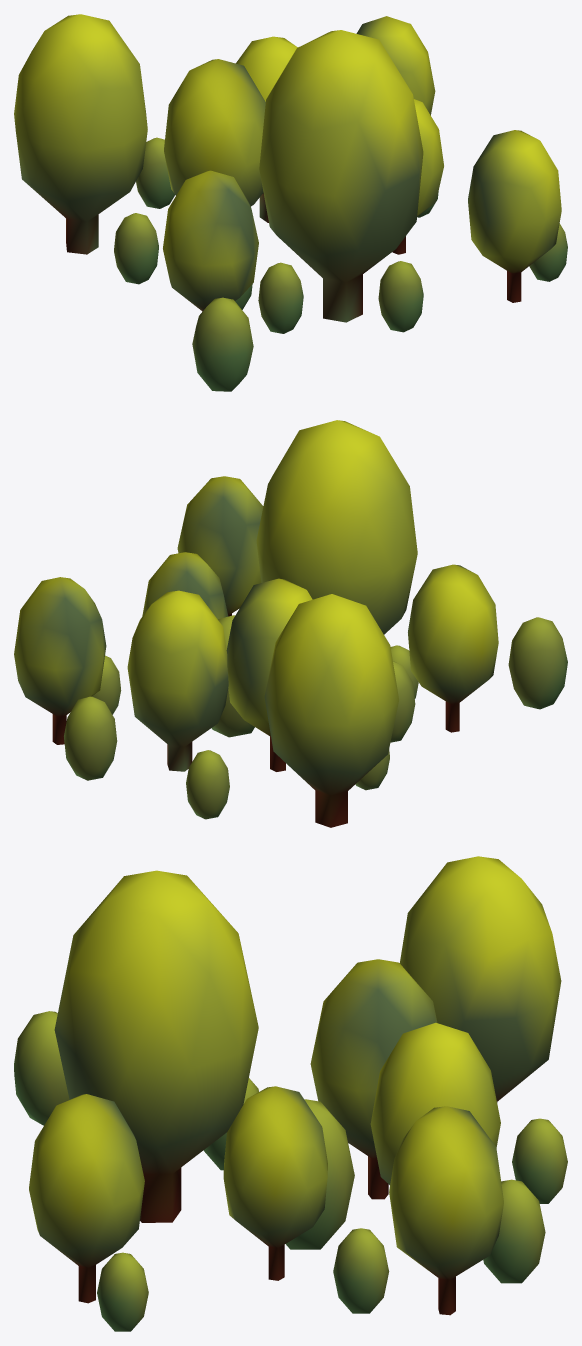
File: SM_Forest2.fbx
The picture shows the model from 3 angles, top to bottom: view 1: azimuth 30°, elevation 25°; view 2: azimuth 150°, elevation 25°; view 3: azimuth 270°, elevation 25°; orthographic projection. The views are drawn at different scales.
Parts seen in each view (by area): view 1: SM_Forest_2; view 2: SM_Forest_2; view 3: SM_Forest_2.
Boxes of the visible parts, x1,y1,x2,y2 form: SM_Forest_2: (14,14,567,391); SM_Forest_2: (14,420,567,827); SM_Forest_2: (14,856,567,1331).
Size of the model in its own units: 663 by 451 by 660.
